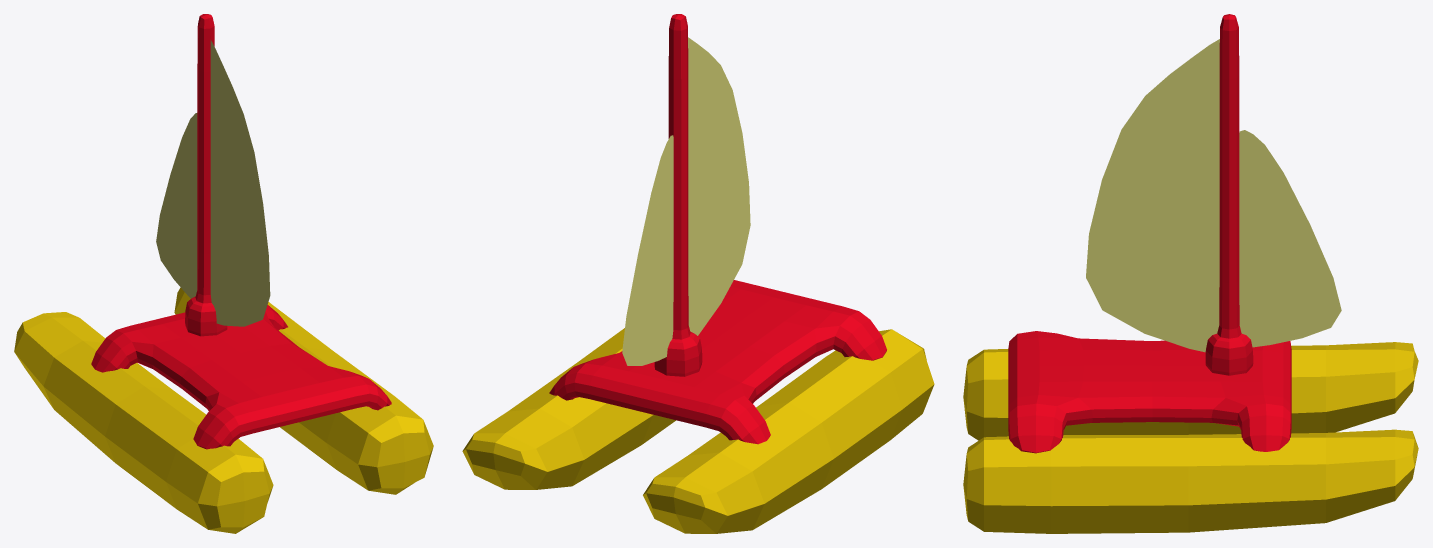
The model's file is mainBoat.fbx.
3 views of the same model, side by side, from view 1: azimuth 30°, elevation 25°; view 2: azimuth 150°, elevation 25°; view 3: azimuth 270°, elevation 25° (orthographic). The views are drawn at different scales.
Visible parts, largest first — view 1: Cube, Cube.001, Plane, Cube.002, Plane.001; view 2: Cube, Cube.001, Plane, Plane.001, Cube.002; view 3: Cube, Plane, Cube.001, Plane.001, Cube.002.
Part boxes in pixels (x1,y1,x2,y2): Cube: (14,287,433,533); Cube.001: (91,305,391,449); Plane: (210,40,270,326); Cube.002: (185,14,227,336); Plane.001: (156,113,197,298); Cube: (462,328,934,533); Cube.001: (549,280,886,444); Plane: (688,37,750,335); Plane.001: (622,135,673,365); Cube.002: (654,14,702,376); Cube: (963,342,1418,533); Plane: (1086,39,1219,352); Cube.001: (1008,331,1291,453); Plane.001: (1239,130,1341,347); Cube.002: (1205,14,1253,375).
Size of the model in its own units: 555 by 933 by 816.
